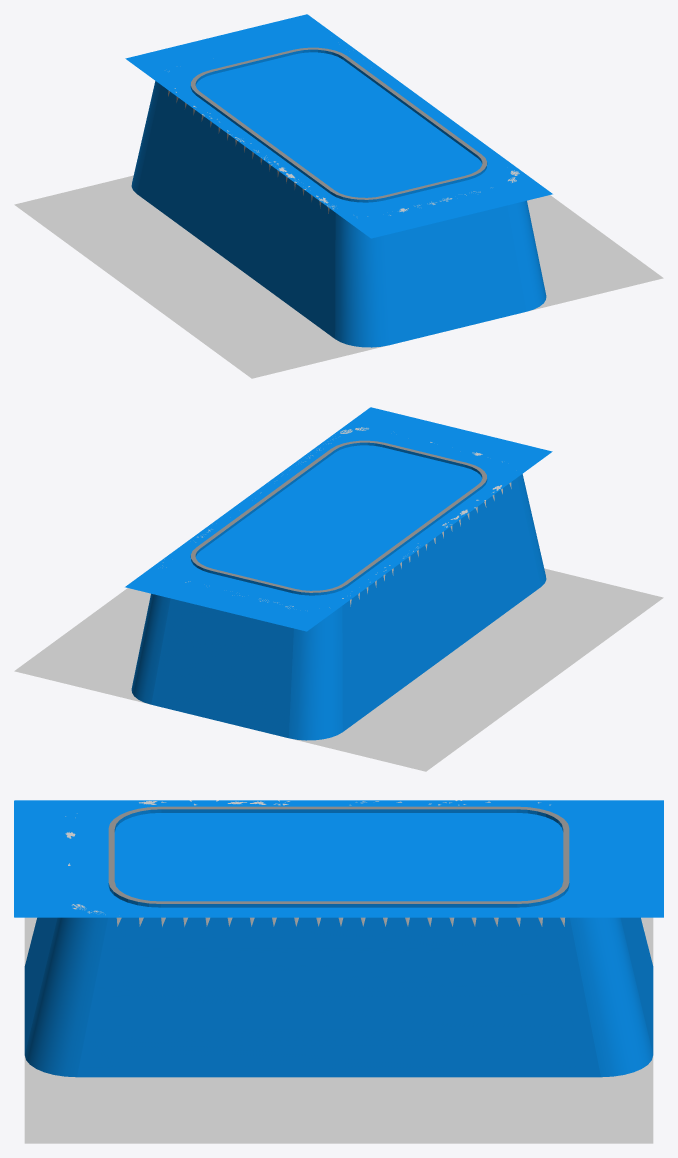
The model's file is SM_fitting_room.FBX.
The picture shows the model from 3 angles, top to bottom: view 1: azimuth 30°, elevation 25°; view 2: azimuth 150°, elevation 25°; view 3: azimuth 270°, elevation 25°; orthographic projection. The views are drawn at different scales.
Parts seen in each view (by area): view 1: SM_walls, SM_plafond, SM_floor; view 2: SM_walls, SM_plafond, SM_floor; view 3: SM_walls, SM_plafond, SM_floor.
Boxes of the visible parts, box(x1,y1,x2,y2) form: SM_walls: box(131, 81, 546, 347); SM_plafond: box(125, 14, 552, 238); SM_floor: box(14, 175, 663, 378); SM_walls: box(131, 474, 546, 740); SM_plafond: box(125, 407, 552, 631); SM_floor: box(14, 568, 663, 771); SM_walls: box(24, 917, 653, 1077); SM_plafond: box(14, 800, 663, 917); SM_floor: box(24, 917, 653, 1143).
Size of the model in its own units: 1500 by 409 by 1551.
